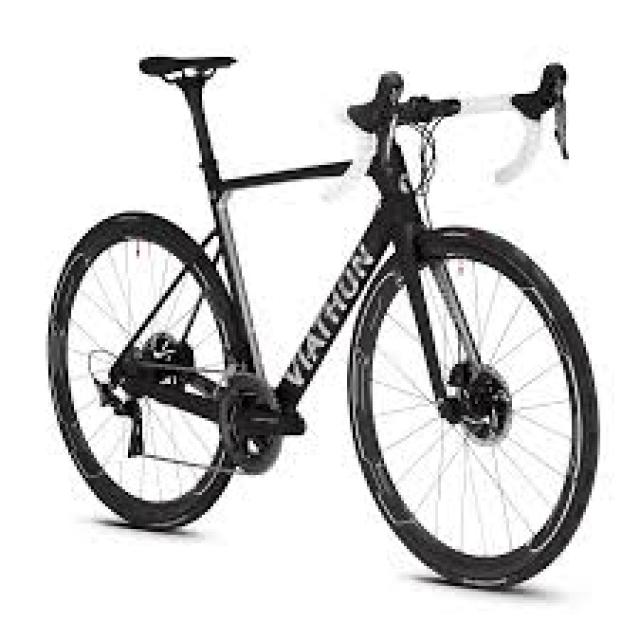road-bike: (44, 55, 603, 592)
